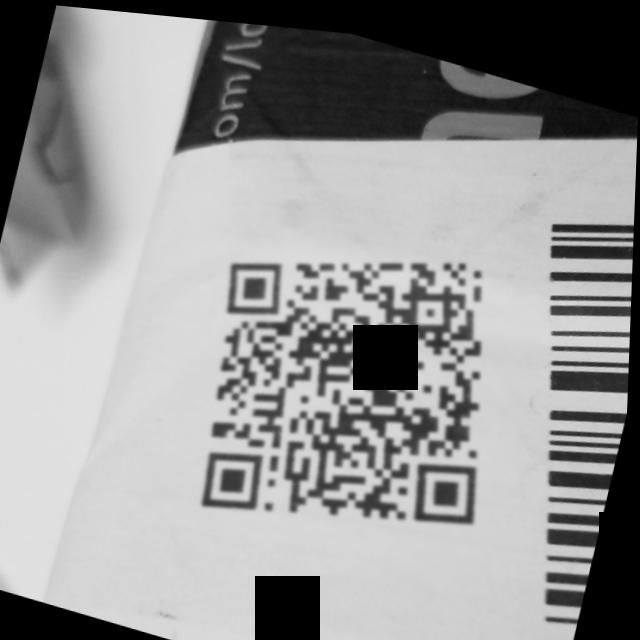QR_CODE: (128, 166, 558, 598)
